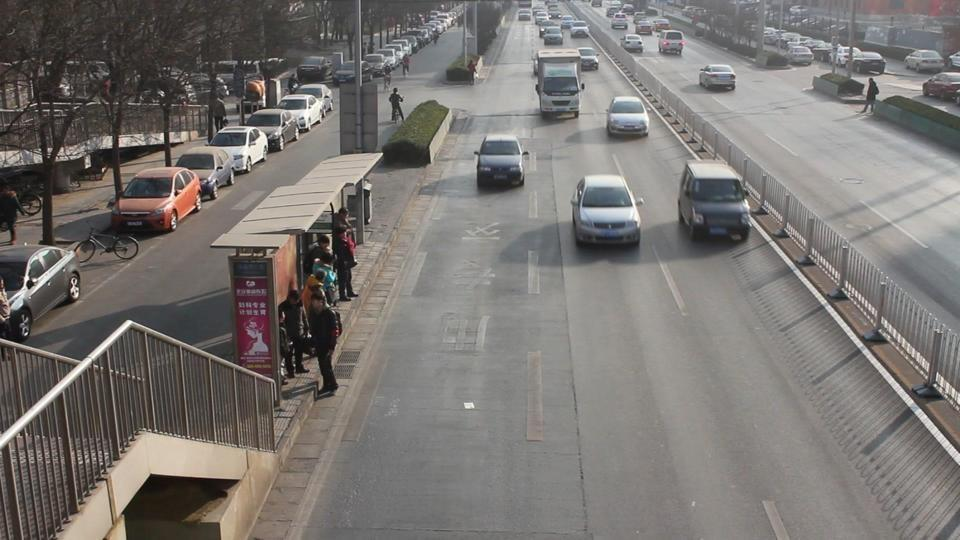car: (0, 241, 83, 340), (109, 165, 202, 233), (676, 161, 752, 243), (570, 174, 643, 246), (172, 139, 270, 186), (173, 147, 235, 199), (208, 127, 270, 174), (475, 135, 527, 189), (244, 109, 299, 151), (606, 96, 649, 139), (279, 92, 327, 129), (843, 48, 886, 76), (922, 70, 960, 100), (905, 49, 945, 74), (699, 64, 736, 91), (657, 30, 686, 56), (542, 23, 564, 46), (578, 48, 599, 71), (621, 35, 643, 53), (570, 21, 589, 38)
